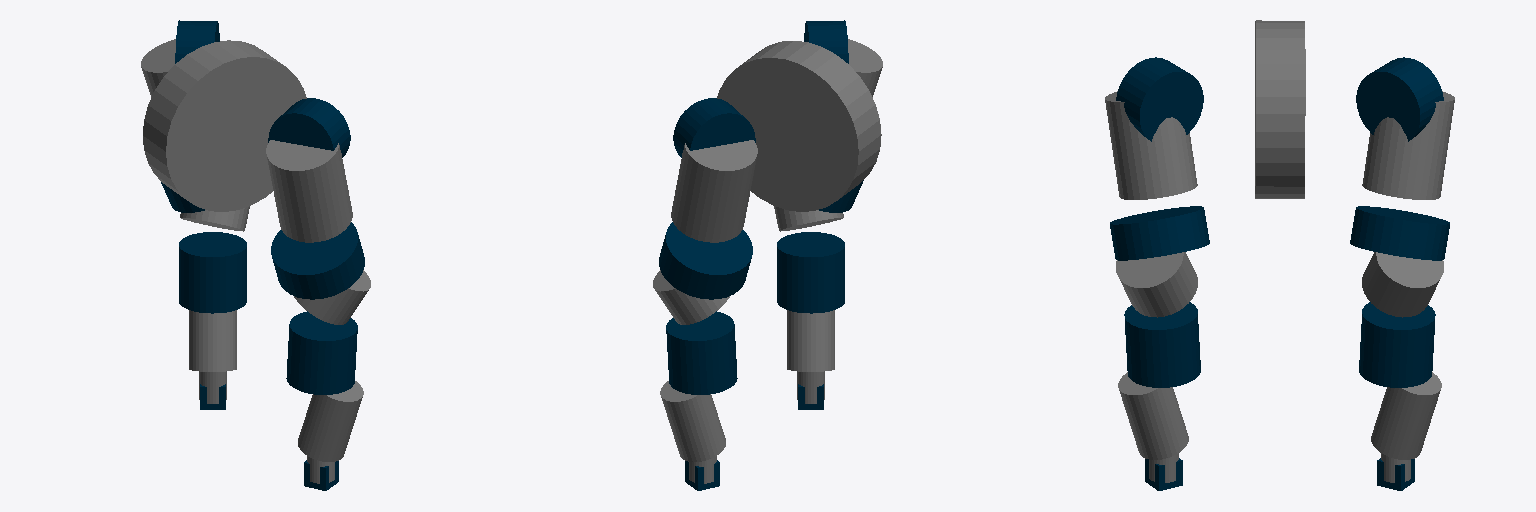
--- Render facts (derived) ---
Views: 3 orthographic renders of the robot side by side, from view 1: azimuth 30°, elevation 25°; view 2: azimuth 150°, elevation 25°; view 3: azimuth 270°, elevation 25°.
Model centauro with 19 links and 18 joints (17 revolute, 1 fixed), rooted at world, posed all joints at 0.
Visible links, largest first — view 1: torso_2, arm2_2, arm1_5, arm2_3, arm2_5, arm2_6, arm2_1, arm1_6, arm2_4, arm1_1, arm1_2, arm1_4 (+2 smaller); view 2: torso_2, arm1_2, arm2_5, arm1_3, arm1_5, arm1_6, arm1_1, arm2_6, arm1_4, arm2_1, arm2_2, arm2_4 (+2 smaller); view 3: torso_2, arm1_2, arm2_2, arm1_5, arm2_5, arm1_1, arm2_1, arm1_3, arm2_3, arm1_4, arm2_4, arm1_6 (+3 smaller).
Boxes of the visible links, x1,y1,x2,y2 form: torso_2: (143, 40, 306, 211); arm2_2: (266, 140, 352, 242); arm1_5: (179, 232, 246, 313); arm2_3: (271, 222, 364, 299); arm2_5: (286, 311, 357, 394); arm2_6: (298, 381, 363, 461); arm2_1: (268, 98, 350, 157); arm1_6: (189, 310, 236, 371); arm2_4: (294, 270, 370, 324); arm1_1: (175, 20, 219, 63); arm1_2: (141, 39, 175, 97); arm1_4: (180, 206, 249, 231); torso_2: (717, 41, 881, 211); arm1_2: (671, 140, 757, 242); arm2_5: (777, 232, 844, 313); arm1_3: (659, 222, 752, 299); arm1_5: (666, 311, 737, 394); arm1_6: (660, 381, 725, 461); arm1_1: (673, 98, 755, 157); arm2_6: (787, 310, 834, 371); arm1_4: (653, 270, 729, 324); arm2_1: (804, 20, 848, 63); arm2_2: (848, 39, 882, 96); arm2_4: (774, 206, 843, 231); torso_2: (1255, 20, 1305, 198); arm1_2: (1362, 91, 1454, 199); arm2_2: (1105, 91, 1197, 199); arm1_5: (1359, 302, 1435, 387); arm2_5: (1124, 302, 1200, 387); arm1_1: (1356, 57, 1443, 141); arm2_1: (1116, 57, 1203, 141); arm1_3: (1350, 206, 1449, 260); arm2_3: (1110, 206, 1209, 260); arm1_4: (1362, 252, 1443, 317); arm2_4: (1116, 252, 1197, 317); arm1_6: (1371, 372, 1441, 459).
Bounding box of the posed robot: 0.345 × 0.6315 × 0.8621 m (x, y, z).
Geometry: primitives only (box / cylinder / sphere), no mesh files.

robot.urdf — centauro:
<?xml version="1.0" ?>
<!-- =================================================================================== -->
<!-- |    This document was autogenerated by xacro from centauro.urdf.xacro            | -->
<!-- |    EDITING THIS FILE BY HAND IS NOT RECOMMENDED                                 | -->
<!-- =================================================================================== -->
<robot name="centauro" xmlns:xacro="http://www.ros.org/wiki/xacro">
  <!-- /constants -->
  <!-- Here all arguments from launch file are evaluated to the final xacro poropeties.
     Also all the parameter dependencies are resolved-->
  <material name="grey">
    <color rgba="0.5 0.5 0.5 1"/>
  </material>
  <material name="dark_grey">
    <color rgba="0.3 0.3 0.3 1"/>
  </material>
  <material name="blue">
    <color rgba="0.0 0.2 0.3 1"/>
  </material>
  <material name="red">
    <color rgba="0.5 0.1 0.2 1"/>
  </material>
  <material name="black">
    <color rgba="0.0 0.0 0.0 1"/>
  </material>
  <!-- Here all arguments from launch file are evaluated to the final xacro poropeties.
     Also all the parameter dependencies are resolved-->
  <!-- load proper collision model -->
  <!-- load proper collision model -->
  <!-- Here all arguments from launch file are evaluated to the final xacro poropeties.
     Also all the parameter dependencies are resolved-->
  <!-- load proper collision model -->
  <!-- load proper collision model -->
  <!-- /macro arms -->
  <!-- /other files -->
  <!-- reference -->
  <link name="world"/>
  <link name="pelvis"/>
  <joint name="reference" type="fixed">
    <origin xyz="0.0 0.0 0.85"/>
    <parent link="world"/>
    <child link="pelvis"/>
  </joint>
  <!-- /reference  -->
  <!-- torso links -->
  <link name="torso_2">
    <inertial>
      <origin xyz="0.0047281261 0.00038307386 0.14972892"/>
      <mass value="4.5494226"/>
      <!-- mass  7: torso_1 (2) + torso_2 (5), head un_modelled -->
      <inertia ixx="0.063643392" ixy="8.939e-05" ixz="-0.00086873" iyy="0.02680235" iyz="-4.657e-05" izz="0.04743015"/>
    </inertial>
    <visual>
      <origin rpy="1.5646258233 0.00631611549186 0.00627726188579" xyz="0.006465805 0.0001011 0.153948"/>
      <geometry>
        <cylinder length="0.0891360748547" radius="0.161132"/>
      </geometry>
      <material name="grey"/>
    </visual>
    <collision>
      <origin rpy="1.5646258233 0.00631611549186 0.00627726188579" xyz="0.006465805 0.0001011 0.153948"/>
      <geometry>
        <cylinder length="0.0891360748547" radius="0.161132"/>
      </geometry>
      <material name="grey"/>
    </collision>
  </link>
  <!-- /torso links -->
  <!-- torso joints -->
  <joint name="torso_yaw" type="revolute">
    <parent link="world"/>
    <origin xyz="0.3 0.0 0.95"/>
    <child link="torso_2"/>
    <axis xyz="0 0 1"/>
    <limit effort="147" lower="-2.618" upper="2.618" velocity="5.7"/>
    <!-- TODO -->
  </joint>
  <!-- /torso joints -->
  <transmission name="t_torso_yaw">
    <type> transmission_interface/SimpleTransmission</type>
    <joint name="torso_yaw">
      <hardwareInterface>EffortJointInterface</hardwareInterface>
    </joint>
    <actuator name="motor_torso_yaw">
      <hardwareInterface>EffortJointInterface</hardwareInterface>
      <machanicalReduction>1</machanicalReduction>
    </actuator>
    <robotNamespace>/centauro</robotNamespace>
  </transmission>
  <!-- /torso actuators -->
  <!-- /torso -->
  <!-- LINKS -->
  <!-- shoulder yaw-roll-->
  <link name="arm1_1">
    <inertial>
      <origin xyz="-0.0031005886 0.040324584 0.007451937"/>
      <mass value="1.5583338"/>
      <inertia ixx="0.0032318636" ixy="4.24587e-05" ixz="4.91626e-05" iyy="0.00275718" iyz="-0.0002387056" izz="0.004275047"/>
    </inertial>
    <visual>
      <origin rpy="1.43215510177 1.49033190729 1.3529023596" xyz="-0.0048142 0.05214035 0.009074915"/>
      <geometry>
        <cylinder length="0.0751108222021" radius="0.0704036"/>
      </geometry>
      <material name="blue"/>
    </visual>
    <collision>
      <origin rpy="1.43215510177 1.49033190729 1.3529023596" xyz="-0.0048142 0.05214035 0.009074915"/>
      <geometry>
        <cylinder length="0.0751108222021" radius="0.0704036"/>
      </geometry>
      <material name="blue"/>
    </collision>
  </link>
  <!-- shoulder yaw-roll-->
  <!-- shoulder roll-pitch-->
  <link name="arm1_2">
    <inertial>
      <origin xyz="0.05105435 0.00011109 -0.07643596"/>
      <mass value="1.515061"/>
      <inertia ixx="0.01029558" ixy="2.846e-05" ixz="0.0036567" iyy="0.01178018" iyz="2.088e-05" izz="0.00386123"/>
    </inertial>
    <visual>
      <origin rpy="3.14155533114 0.292918451701 3.14133964661" xyz="0.0709568 -7.98629e-06 -0.08709620665"/>
      <geometry>
        <cylinder length="0.181861949629" radius="0.0715161"/>
      </geometry>
      <material name="grey"/>
    </visual>
    <collision>
      <origin rpy="3.14155533114 0.292918451701 3.14133964661" xyz="0.0709568 -7.98629e-06 -0.08709620665"/>
      <geometry>
        <cylinder length="0.181861949629" radius="0.0715161"/>
      </geometry>
      <material name="grey"/>
    </collision>
  </link>
  <!-- shoulder roll-pitch-->
  <!-- shoulder-elbow -->
  <link name="arm1_3">
    <inertial>
      <origin xyz="0.01207624 0.00322013 -0.03427312"/>
      <mass value="1.5088101"/>
      <inertia ixx="0.00469819" ixy="-0.00026547" ixz="0.00077706" iyy="0.00501755" iyz="0.00029679" izz="0.00310954"/>
    </inertial>
    <visual>
      <origin rpy="-3.12082286426 0.376309803205 -3.03261579115" xyz="0.011726993 0.000587176 -0.036774245"/>
      <geometry>
        <cylinder length="0.0663641129654" radius="0.0864441"/>
      </geometry>
      <material name="blue"/>
    </visual>
    <collision>
      <origin rpy="-3.12082286426 0.376309803205 -3.03261579115" xyz="0.011726993 0.000587176 -0.036774245"/>
      <geometry>
        <cylinder length="0.0663641129654" radius="0.0864441"/>
      </geometry>
      <material name="blue"/>
    </collision>
  </link>
  <!-- /shoulder-elbow -->
  <!-- elbow yaw-pitch -->
  <link name="arm1_4">
    <inertial>
      <origin xyz="0.010147552 -0.029928537 -0.032528288"/>
      <mass value="0.96297329"/>
      <inertia ixx="0.0026493567" ixy="5.1632e-06" ixz="0.0001292309" iyy="0.0023470955" iyz="-0.0007895755" izz="0.0012213063"/>
    </inertial>
    <visual>
      <origin rpy="-0.495925898415 0.203809792245 -0.0517669672272" xyz="-0.007494375 -0.03766645 -0.032153375"/>
      <geometry>
        <cylinder length="0.086188245518" radius="0.0644525"/>
      </geometry>
      <material name="grey"/>
    </visual>
    <collision>
      <origin rpy="-0.495925898415 0.203809792245 -0.0517669672272" xyz="-0.007494375 -0.03766645 -0.032153375"/>
      <geometry>
        <cylinder length="0.086188245518" radius="0.0644525"/>
      </geometry>
      <material name="grey"/>
    </collision>
  </link>
  <!-- /elbow yaw-pitch -->
  <!-- elbow-wrist -->
  <link name="arm1_5">
    <inertial>
      <origin xyz="-0.0001574443 0.0041320907 -0.10756614"/>
      <mass value="1.4703698"/>
      <inertia ixx="0.0064160453" ixy="1.96382e-05" ixz="2.49912e-05" iyy="0.0062016367" iyz="-0.0001987903" izz="0.0017091658"/>
    </inertial>
    <visual>
      <origin rpy="-0.0568462554593 0.000100286628987 -2.85122752006e-06" xyz="-1.864335e-05 0.002166045 -0.1129697"/>
      <geometry>
        <cylinder length="0.117011611001" radius="0.066519"/>
      </geometry>
      <material name="blue"/>
    </visual>
    <collision>
      <origin rpy="-0.0568462554593 0.000100286628987 -2.85122752006e-06" xyz="-1.864335e-05 0.002166045 -0.1129697"/>
      <geometry>
        <cylinder length="0.117011611001" radius="0.066519"/>
      </geometry>
      <material name="blue"/>
    </collision>
  </link>
  <!-- /elbow-wrist -->
  <!-- wrist yaw-pitch -->
  <link name="arm1_6">
    <inertial>
      <origin xyz="3.23645e-05 -0.035947237 -0.080878061"/>
      <mass value="0.94693868"/>
      <inertia ixx="0.0036896582" ixy="2.63667e-05" ixz="1.4005e-06" iyy="0.0034146283" iyz="-0.0008268103" izz="0.0010790183"/>
    </inertial>
    <visual>
      <origin rpy="2.84203235611 -0.00109442040711 -0.00725209173511" xyz="-6.44753e-05 -0.0278815 -0.067420365"/>
      <geometry>
        <cylinder length="0.145199624103" radius="0.0470691"/>
      </geometry>
      <material name="grey"/>
    </visual>
    <collision>
      <origin rpy="2.84203235611 -0.00109442040711 -0.00725209173511" xyz="-6.44753e-05 -0.0278815 -0.067420365"/>
      <geometry>
        <cylinder length="0.145199624103" radius="0.0470691"/>
      </geometry>
      <material name="grey"/>
    </collision>
  </link>
  <!-- /wrist yaw-pitch -->
  <link name="arm1_7">
    <inertial>
      <origin xyz="2.46596e-05 -0.0001467705 -0.0052993013"/>
      <mass value="0.55981036"/>
      <inertia ixx="0.0004360175" ixy="1.397e-07" ixz="-1.382e-07" iyy="0.0004299166" iyz="-1.4752e-06" izz="0.0004522224"/>
    </inertial>
    <visual>
      <origin rpy="0.0 0.0 0.0" xyz="0.0 0.0 -0.020"/>
      <geometry>
        <box size="0.05 0.05 0.05"/>
      </geometry>
      <material name="blue"/>
    </visual>
    <collision>
      <origin rpy="0.0 0.0 0.0" xyz="0.0 0.0 -0.020"/>
      <geometry>
        <box size="0.05 0.05 0.05"/>
      </geometry>
      <material name="blue"/>
    </collision>
  </link>
  <!-- /LINKS -->
  <!-- JOINTS -->
  <!-- shoulder yaw -->
  <joint name="j_arm1_1" type="revolute">
    <parent link="torso_2"/>
    <child link="arm1_1"/>
    <origin rpy="0.0 0.0 -0.523602668986" xyz="0.04576 0.169137 0.190626"/>
    <axis xyz="0 0.984807753012 0.173648177667"/>
    <limit effort="147" lower="-3.403" upper="1.658" velocity="5.7"/>
  </joint>
  <!-- /shoulder yaw -->
  <!-- shoulder roll -->
  <joint name="j_arm1_2" type="revolute">
    <parent link="arm1_1"/>
    <child link="arm1_2"/>
    <origin xyz="-0.09115 0.06106 0.010766"/>
    <axis xyz="-1 0 0"/>
    <limit effort="147" lower="-3.49" upper="0" velocity="5.7"/>
  </joint>
  <!-- /shoulder roll -->
  <!-- shoulder pitch-->
  <joint name="j_arm1_3" type="revolute">
    <parent link="arm1_2"/>
    <child link="arm1_3"/>
    <origin xyz="0.09115 0.0 -0.21915"/>
    <axis xyz="0 0 -1"/>
    <limit effort="147" lower="-2.618" upper="2.618" velocity="8.2"/>
  </joint>
  <!-- /shoulder pitch -->
  <!-- elbow yaw -->
  <joint name="j_arm1_4" type="revolute">
    <parent link="arm1_3"/>
    <child link="arm1_4"/>
    <origin xyz="0.04 0.05615 -0.074"/>
    <axis xyz="0 1 0"/>
    <limit effort="147" lower="-2.530" upper="0.349" velocity="8.2"/>
  </joint>
  <!-- /elbow yaw -->
  <!-- elbow pitch-->
  <joint name="j_arm1_5" type="revolute">
    <parent link="arm1_4"/>
    <child link="arm1_5"/>
    <origin xyz="-0.015 -0.05615 -0.061"/>
    <axis xyz="0 0 -1"/>
    <limit effort="55" lower="-2.618" upper="2.618" velocity="11.6"/>
  </joint>
  <!-- /elbow pitch-->
  <!-- wrist yaw-->
  <joint name="j_arm1_6" type="revolute">
    <parent link="arm1_5"/>
    <child link="arm1_6"/>
    <origin xyz="0.0 0.049 -0.18"/>
    <axis xyz="0 1 0"/>
    <limit effort="55" lower="-1.570" upper="1.570" velocity="11.6"/>
  </joint>
  <!-- /wrist yaw-->
  <!-- wrist pitch-->
  <joint name="j_arm1_7" type="revolute">
    <parent link="arm1_6"/>
    <child link="arm1_7"/>
    <origin xyz="0.0 -0.049 -0.169"/>
    <axis xyz="0 0 -1"/>
    <limit effort="27" lower="-2.618" upper="2.618" velocity="20.3"/>
  </joint>
  <!-- wrist pitch-->
  <!-- force-troque sensor -->
  <transmission name="t_j_arm1_1">
    <type> transmission_interface/SimpleTransmission</type>
    <joint name="j_arm1_1">
      <hardwareInterface>EffortJointInterface</hardwareInterface>
    </joint>
    <actuator name="motor_j_arm1_1">
      <hardwareInterface>EffortJointInterface</hardwareInterface>
      <machanicalReduction>1</machanicalReduction>
    </actuator>
    <robotNamespace>/centauro</robotNamespace>
  </transmission>
  <transmission name="t_j_arm1_2">
    <type> transmission_interface/SimpleTransmission</type>
    <joint name="j_arm1_2">
      <hardwareInterface>EffortJointInterface</hardwareInterface>
    </joint>
    <actuator name="motor_j_arm1_2">
      <hardwareInterface>EffortJointInterface</hardwareInterface>
      <machanicalReduction>1</machanicalReduction>
    </actuator>
    <robotNamespace>/centauro</robotNamespace>
  </transmission>
  <transmission name="t_j_arm1_3">
    <type> transmission_interface/SimpleTransmission</type>
    <joint name="j_arm1_3">
      <hardwareInterface>EffortJointInterface</hardwareInterface>
    </joint>
    <actuator name="motor_j_arm1_3">
      <hardwareInterface>EffortJointInterface</hardwareInterface>
      <machanicalReduction>1</machanicalReduction>
    </actuator>
    <robotNamespace>/centauro</robotNamespace>
  </transmission>
  <transmission name="t_j_arm1_4">
    <type> transmission_interface/SimpleTransmission</type>
    <joint name="j_arm1_4">
      <hardwareInterface>EffortJointInterface</hardwareInterface>
    </joint>
    <actuator name="motor_j_arm1_4">
      <hardwareInterface>EffortJointInterface</hardwareInterface>
      <machanicalReduction>1</machanicalReduction>
    </actuator>
    <robotNamespace>/centauro</robotNamespace>
  </transmission>
  <transmission name="t_j_arm1_5">
    <type> transmission_interface/SimpleTransmission</type>
    <joint name="j_arm1_5">
      <hardwareInterface>EffortJointInterface</hardwareInterface>
    </joint>
    <actuator name="motor_j_arm1_5">
      <hardwareInterface>EffortJointInterface</hardwareInterface>
      <machanicalReduction>1</machanicalReduction>
    </actuator>
    <robotNamespace>/centauro</robotNamespace>
  </transmission>
  <transmission name="t_j_arm1_6">
    <type> transmission_interface/SimpleTransmission</type>
    <joint name="j_arm1_6">
      <hardwareInterface>EffortJointInterface</hardwareInterface>
    </joint>
    <actuator name="motor_j_arm1_6">
      <hardwareInterface>EffortJointInterface</hardwareInterface>
      <machanicalReduction>1</machanicalReduction>
    </actuator>
    <robotNamespace>/centauro</robotNamespace>
  </transmission>
  <transmission name="t_j_arm1_7">
    <type> transmission_interface/SimpleTransmission</type>
    <joint name="j_arm1_7">
      <hardwareInterface>EffortJointInterface</hardwareInterface>
    </joint>
    <actuator name="motor_j_arm1_7">
      <hardwareInterface>EffortJointInterface</hardwareInterface>
      <machanicalReduction>1</machanicalReduction>
    </actuator>
    <robotNamespace>/centauro</robotNamespace>
  </transmission>
  <!-- /actuators -->
  <!-- end-effector -->
  <!-- links -->
  <link name="arm1_8">
    <inertial>
      <origin rpy="0 0 0" xyz="0.001 0.0 0.006"/>
      <mass value="0.15"/>
      <inertia ixx="0.0002" ixy="0.0" ixz="0.0" iyy="0.0002" iyz="0.0" izz="1e-05"/>
      <!--          <inertia ixx="0.003"  ixy="0"  ixz="0" iyy="0.0025" iyz="0" izz="0.00016900" /> -->
    </inertial>
    <visual>
      <origin rpy="-3.14159265316 -0.0 -0.0" xyz="-1.9971412865e-11 3.9418704065e-12 -0.056579685"/>
      <geometry>
        <cylinder length="0.09496663" radius="0.0276743"/>
      </geometry>
      <material name="grey"/>
    </visual>
    <collision>
      <origin rpy="-3.14159265316 -0.0 -0.0" xyz="-1.9971412865e-11 3.9418704065e-12 -0.056579685"/>
      <geometry>
        <cylinder length="0.09496663" radius="0.0276743"/>
      </geometry>
    </collision>
  </link>
  <!-- /links -->
  <!-- joints -->
  <joint name="j_arm1_8" type="revolute">
    <parent link="arm1_7"/>
    <child link="arm1_8"/>
    <origin rpy="0.0 3.14159265359 -1.5707963268" xyz="0.0 0.0 -0.0405"/>
    <axis xyz="1 0 0"/>
    <limit effort="0" lower="0.0" upper="0" velocity="0"/>
  </joint>
   --&gt;

  <!-- /joints -->
  <!-- /end-effector -->
  <!-- LINKS -->
  <!-- shoulder yaw-roll-->
  <link name="arm2_1">
    <inertial>
      <origin xyz="-0.0031005886 -0.040324584 0.007451937"/>
      <mass value="1.5583338"/>
      <inertia ixx="0.0032318636" ixy="-4.24587e-05" ixz="4.91626e-05" iyy="0.00275718" iyz="0.0002387056" izz="0.004275047"/>
    </inertial>
    <visual>
      <origin rpy="-1.43215510177 1.49033190729 -1.3529023596" xyz="-0.0048142 -0.05214035 0.009074915"/>
      <geometry>
        <cylinder length="0.0751108222021" radius="0.0704036"/>
      </geometry>
      <material name="blue"/>
    </visual>
    <collision>
      <origin rpy="-1.43215510177 1.49033190729 -1.3529023596" xyz="-0.0048142 -0.05214035 0.009074915"/>
      <geometry>
        <cylinder length="0.0751108222021" radius="0.0704036"/>
      </geometry>
      <material name="blue"/>
    </collision>
  </link>
  <!-- shoulder yaw-roll-->
  <!-- shoulder roll-pitch-->
  <link name="arm2_2">
    <inertial>
      <origin xyz="0.05105435 -0.00011109 -0.07643596"/>
      <mass value="1.515061"/>
      <inertia ixx="0.01029558" ixy="-2.846e-05" ixz="0.0036567" iyy="0.01178018" iyz="-2.088e-05" izz="0.00386123"/>
    </inertial>
    <visual>
      <origin rpy="-3.14155533114 0.292918451701 -3.14133964661" xyz="0.0709568 7.98629e-06 -0.08709620665"/>
      <geometry>
        <cylinder length="0.181861949629" radius="0.0715161"/>
      </geometry>
      <material name="grey"/>
    </visual>
    <collision>
      <origin rpy="-3.14155533114 0.292918451701 -3.14133964661" xyz="0.0709568 7.98629e-06 -0.08709620665"/>
      <geometry>
        <cylinder length="0.181861949629" radius="0.0715161"/>
      </geometry>
      <material name="grey"/>
    </collision>
  </link>
  <!-- shoulder roll-pitch-->
  <!-- shoulder-elbow -->
  <link name="arm2_3">
    <inertial>
      <origin xyz="0.01207624 -0.00322013 -0.03427312"/>
      <mass value="1.5088101"/>
      <inertia ixx="0.00469819" ixy="0.00026547" ixz="0.00077706" iyy="0.00501755" iyz="-0.00029679" izz="0.00310954"/>
    </inertial>
    <visual>
      <origin rpy="3.12082286426 0.376309803205 3.03261579115" xyz="0.011726993 -0.000587176 -0.036774245"/>
      <geometry>
        <cylinder length="0.0663641129654" radius="0.0864441"/>
      </geometry>
      <material name="blue"/>
    </visual>
    <collision>
      <origin rpy="3.12082286426 0.376309803205 3.03261579115" xyz="0.011726993 -0.000587176 -0.036774245"/>
      <geometry>
        <cylinder length="0.0663641129654" radius="0.0864441"/>
      </geometry>
      <material name="blue"/>
    </collision>
  </link>
  <!-- /shoulder-elbow -->
  <!-- elbow yaw-pitch -->
  <link name="arm2_4">
    <inertial>
      <origin xyz="0.010147552 0.029928537 -0.032528288"/>
      <mass value="0.96297329"/>
      <inertia ixx="0.0026493567" ixy="-5.1632e-06" ixz="0.0001292309" iyy="0.0023470955" iyz="0.0007895755" izz="0.0012213063"/>
    </inertial>
    <visual>
      <origin rpy="0.495925898415 0.203809792245 0.0517669672272" xyz="-0.007494375 0.03766645 -0.032153375"/>
      <geometry>
        <cylinder length="0.086188245518" radius="0.0644525"/>
      </geometry>
      <material name="grey"/>
    </visual>
    <collision>
      <origin rpy="0.495925898415 0.203809792245 0.0517669672272" xyz="-0.007494375 0.03766645 -0.032153375"/>
      <geometry>
        <cylinder length="0.086188245518" radius="0.0644525"/>
      </geometry>
      <material name="grey"/>
    </collision>
  </link>
  <!-- /elbow yaw-pitch -->
  <!-- elbow-wrist -->
  <link name="arm2_5">
    <inertial>
      <origin xyz="-0.0001574443 -0.0041320907 -0.10756614"/>
      <mass value="1.4703698"/>
      <inertia ixx="0.0064160453" ixy="-1.96382e-05" ixz="2.49912e-05" iyy="0.0062016367" iyz="0.0001987903" izz="0.0017091658"/>
    </inertial>
    <visual>
      <origin rpy="0.0568462554593 0.000100286628987 2.85122752006e-06" xyz="-1.864335e-05 -0.002166045 -0.1129697"/>
      <geometry>
        <cylinder length="0.117011611001" radius="0.066519"/>
      </geometry>
      <material name="blue"/>
    </visual>
    <collision>
      <origin rpy="0.0568462554593 0.000100286628987 2.85122752006e-06" xyz="-1.864335e-05 -0.002166045 -0.1129697"/>
      <geometry>
        <cylinder length="0.117011611001" radius="0.066519"/>
      </geometry>
      <material name="blue"/>
    </collision>
  </link>
  <!-- /elbow-wrist -->
  <!-- wrist yaw-pitch -->
  <link name="arm2_6">
    <inertial>
      <origin xyz="3.23645e-05 0.035947237 -0.080878061"/>
      <mass value="0.94693868"/>
      <inertia ixx="0.0036896582" ixy="-2.63667e-05" ixz="1.4005e-06" iyy="0.0034146283" iyz="0.0008268103" izz="0.0010790183"/>
    </inertial>
    <visual>
      <origin rpy="-2.84203235611 -0.00109442040711 0.00725209173511" xyz="-6.44753e-05 0.0278815 -0.067420365"/>
      <geometry>
        <cylinder length="0.145199624103" radius="0.0470691"/>
      </geometry>
      <material name="grey"/>
    </visual>
    <collision>
      <origin rpy="-2.84203235611 -0.00109442040711 0.00725209173511" xyz="-6.44753e-05 0.0278815 -0.067420365"/>
      <geometry>
        <cylinder length="0.145199624103" radius="0.0470691"/>
      </geometry>
      <material name="grey"/>
    </collision>
  </link>
  <!-- /wrist yaw-pitch -->
  <link name="arm2_7">
    <inertial>
      <origin xyz="2.46596e-05 0.0001467705 -0.0052993013"/>
      <mass value="0.55981036"/>
      <inertia ixx="0.0004360175" ixy="-1.397e-07" ixz="-1.382e-07" iyy="0.0004299166" iyz="1.4752e-06" izz="0.0004522224"/>
    </inertial>
    <visual>
      <origin rpy="0.0 0.0 0.0" xyz="0.0 0.0 -0.020"/>
      <geometry>
        <box size="0.05 0.05 0.05"/>
      </geometry>
      <material name="blue"/>
    </visual>
    <collision>
      <origin rpy="0.0 0.0 0.0" xyz="0.0 0.0 -0.020"/>
      <geometry>
        <box size="0.05 0.05 0.05"/>
      </geometry>
      <material name="blue"/>
    </collision>
  </link>
  <!-- /LINKS -->
  <!-- JOINTS -->
  <!-- shoulder yaw -->
  <joint name="j_arm2_1" type="revolute">
    <parent link="torso_2"/>
    <child link="arm2_1"/>
    <origin rpy="0.0 0.0 0.523602668986" xyz="0.04576 -0.169137 0.190626"/>
    <axis xyz="0 -0.984807753012 0.173648177667"/>
    <limit effort="147" lower="-1.658" upper="3.403" velocity="5.7"/>
  </joint>
  <!-- /shoulder yaw -->
  <!-- shoulder roll -->
  <joint name="j_arm2_2" type="revolute">
    <parent link="arm2_1"/>
    <child link="arm2_2"/>
    <origin xyz="-0.09115 -0.06106 0.010766"/>
    <axis xyz="-1 0 0"/>
    <limit effort="147" lower="0" upper="3.49" velocity="5.7"/>
  </joint>
  <!-- /shoulder roll -->
  <!-- shoulder pitch-->
  <joint name="j_arm2_3" type="revolute">
    <parent link="arm2_2"/>
    <child link="arm2_3"/>
    <origin xyz="0.09115 0.0 -0.21915"/>
    <axis xyz="0 0 -1"/>
    <limit effort="147" lower="-2.618" upper="2.618" velocity="8.2"/>
  </joint>
  <!-- /shoulder pitch -->
  <!-- elbow yaw -->
  <joint name="j_arm2_4" type="revolute">
    <parent link="arm2_3"/>
    <child link="arm2_4"/>
    <origin xyz="0.04 -0.05615 -0.074"/>
    <axis xyz="0 -1 0"/>
    <limit effort="147" lower="-0.349" upper="2.530" velocity="8.2"/>
  </joint>
  <!-- /elbow yaw -->
  <!-- elbow pitch-->
  <joint name="j_arm2_5" type="revolute">
    <parent link="arm2_4"/>
    <child link="arm2_5"/>
    <origin xyz="-0.015 0.05615 -0.061"/>
    <axis xyz="0 0 -1"/>
    <limit effort="55" lower="-2.618" upper="2.618" velocity="11.6"/>
  </joint>
  <!-- /elbow pitch-->
  <!-- wrist yaw-->
  <joint name="j_arm2_6" type="revolute">
    <parent link="arm2_5"/>
    <child link="arm2_6"/>
    <origin xyz="0.0 -0.049 -0.18"/>
    <axis xyz="0 -1 0"/>
    <limit effort="55" lower="-1.570" upper="1.570" velocity="11.6"/>
  </joint>
  <!-- /wrist yaw-->
  <!-- wrist pitch-->
  <joint name="j_arm2_7" type="revolute">
    <parent link="arm2_6"/>
    <child link="arm2_7"/>
    <origin xyz="0.0 0.049 -0.169"/>
    <axis xyz="0 0 -1"/>
    <limit effort="27" lower="-2.618" upper="2.618" velocity="20.3"/>
  </joint>
  <!-- wrist pitch-->
  <!-- force-troque sensor -->
  <transmission name="t_j_arm2_1">
    <type> transmission_interface/SimpleTransmission</type>
    <joint name="j_arm2_1">
      <hardwareInterface>EffortJointInterface</hardwareInterface>
    </joint>
    <actuator name="motor_j_arm2_1">
      <hardwareInterface>EffortJointInterface</hardwareInterface>
      <machanicalReduction>1</machanicalReduction>
    </actuator>
    <robotNamespace>/centauro</robotNamespace>
  </transmission>
  <transmission name="t_j_arm2_2">
    <type> transmission_interface/SimpleTransmission</type>
    <joint name="j_arm2_2">
      <hardwareInterface>EffortJointInterface</hardwareInterface>
    </joint>
    <actuator name="motor_j_arm2_2">
      <hardwareInterface>EffortJointInterface</hardwareInterface>
      <machanicalReduction>1</machanicalReduction>
    </actuator>
    <robotNamespace>/centauro</robotNamespace>
  </transmission>
  <transmission name="t_j_arm2_3">
    <type> transmission_interface/SimpleTransmission</type>
    <joint name="j_arm2_3">
      <hardwareInterface>EffortJointInterface</hardwareInterface>
    </joint>
    <actuator name="motor_j_arm2_3">
      <hardwareInterface>EffortJointInterface</hardwareInterface>
      <machanicalReduction>1</machanicalReduction>
    </actuator>
    <robotNamespace>/centauro</robotNamespace>
  </transmission>
  <transmission name="t_j_arm2_4">
    <type> transmission_interface/SimpleTransmission</type>
    <joint name="j_arm2_4">
      <hardwareInterface>EffortJointInterface</hardwareInterface>
    </joint>
    <actuator name="motor_j_arm2_4">
      <hardwareInterface>EffortJointInterface</hardwareInterface>
      <machanicalReduction>1</machanicalReduction>
    </actuator>
    <robotNamespace>/centauro</robotNamespace>
  </transmission>
  <transmission name="t_j_arm2_5">
    <type> transmission_interface/SimpleTransmission</type>
    <joint name="j_arm2_5">
      <hardwareInterface>EffortJointInterface</hardwareInterface>
    </joint>
    <actuator name="motor_j_arm2_5">
      <hardwareInterface>EffortJointInterface</hardwareInterface>
      <machanicalReduction>1</machanicalReduction>
    </actuator>
    <robotNamespace>/centauro</robotNamespace>
  </transmission>
  <transmission name="t_j_arm2_6">
    <type> transmission_interface/SimpleTransmission</type>
    <joint name="j_arm2_6">
      <hardwareInterface>EffortJointInterface</hardwareInterface>
    </joint>
    <actuator name="motor_j_arm2_6">
      <hardwareInterface>EffortJointInterface</hardwareInterface>
      <machanicalReduction>1</machanicalReduction>
    </actuator>
    <robotNamespace>/centauro</robotNamespace>
  </transmission>
  <transmission name="t_j_arm2_7">
    <type> transmission_interface/SimpleTransmission</type>
    <joint name="j_arm2_7">
      <hardwareInterface>EffortJointInterface</hardwareInterface>
    </joint>
    <actuator name="motor_j_arm2_7">
      <hardwareInterface>EffortJointInterface</hardwareInterface>
      <machanicalReduction>1</machanicalReduction>
    </actuator>
    <robotNamespace>/centauro</robotNamespace>
  </transmission>
  <!-- /actuators -->
  <!-- end-effector -->
  <!-- links -->
  <link name="arm2_8">
    <inertial>
      <origin rpy="0 0 0" xyz="0.001 0.0 0.006"/>
      <mass value="0.15"/>
      <inertia ixx="0.0002" ixy="0.0" ixz="0.0" iyy="0.0002" iyz="0.0" izz="1e-05"/>
      <!--          <inertia ixx="0.003"  ixy="0"  ixz="0" iyy="0.0025" iyz="0" izz="0.00016900" /> -->
    </inertial>
    <visual>
      <origin rpy="3.14159265316 -0.0 0.0" xyz="-1.9971412865e-11 -3.9418704065e-12 -0.056579685"/>
      <geometry>
        <cylinder length="0.09496663" radius="0.0276743"/>
      </geometry>
      <material name="grey"/>
    </visual>
    <collision>
      <origin rpy="3.14159265316 -0.0 0.0" xyz="-1.9971412865e-11 -3.9418704065e-12 -0.056579685"/>
      <geometry>
        <cylinder length="0.09496663" radius="0.0276743"/>
      </geometry>
    </collision>
  </link>
  <!-- /links -->
  <!-- joints -->
  <joint name="j_arm2_8" type="revolute">
    <parent link="arm2_7"/>
    <child link="arm2_8"/>
    <origin rpy="0.0 3.14159265359 -1.5707963268" xyz="0.0 0.0 -0.0405"/>
    <axis xyz="1 0 0"/>
    <limit effort="0" lower="0.0" upper="0" velocity="0"/>
  </joint>
   --&gt;

  <!-- /joints -->
  <!-- /end-effector -->
  <!-- /arms -->
  <!-- /legs -->
</robot>
